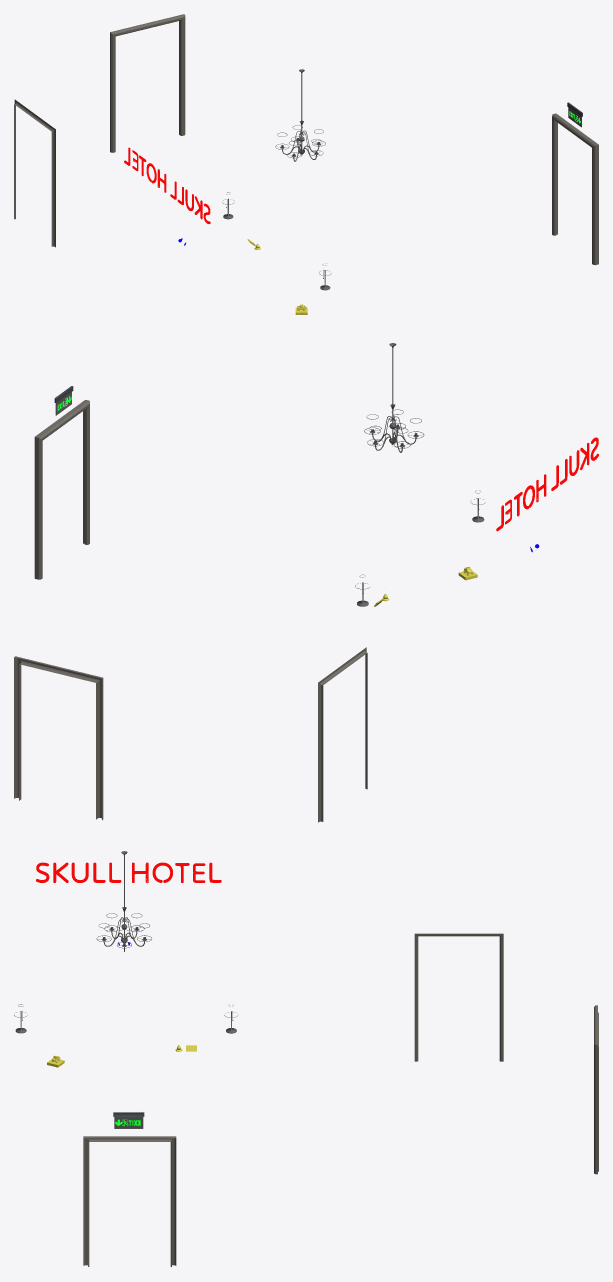
The model's file is reception_metal.glb.
3 views of the same model, one above another, from view 1: azimuth 30°, elevation 25°; view 2: azimuth 150°, elevation 25°; view 3: azimuth 270°, elevation 25° (orthographic). The views are drawn at different scales.
Parts seen in each view (by area): view 1: Frame, Metal, Text; view 2: Frame, Metal, Text; view 3: Frame, Text, Metal.
Boxes of the visible parts, <box> form: Frame: <box>14,14,598,265</box>; Metal: <box>222,69,581,290</box>; Text: <box>124,147,210,223</box>; Frame: <box>14,400,367,822</box>; Metal: <box>55,343,485,606</box>; Text: <box>496,437,598,531</box>; Frame: <box>83,933,598,1266</box>; Text: <box>36,862,221,882</box>; Metal: <box>14,851,237,1128</box>.
Size of the model in its own units: 7.41 by 4.27 by 8.43.
Materials: 8 (1 with a texture image).
